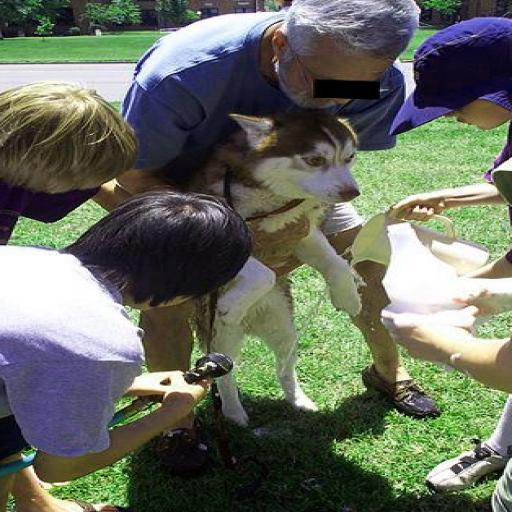dog_face: (238, 112, 372, 209)
